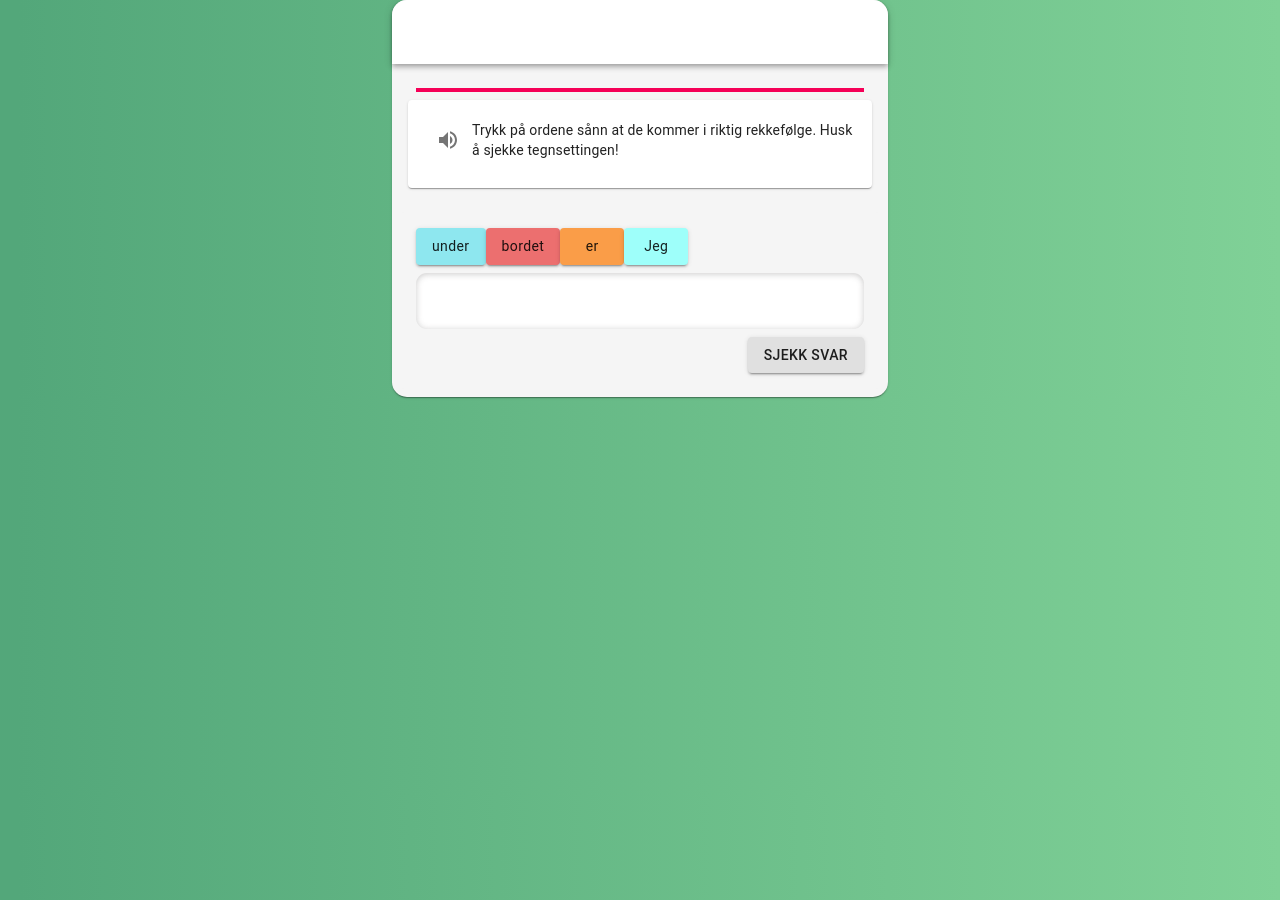
Test case: RyddeSetninger component › should return "Feil!" on incorrect play through, and buttons are disabled
Expected: the text "Jeg" is shown, [644,238,668,254]
Click the button "er" at (592, 246), box [560,228,624,264]
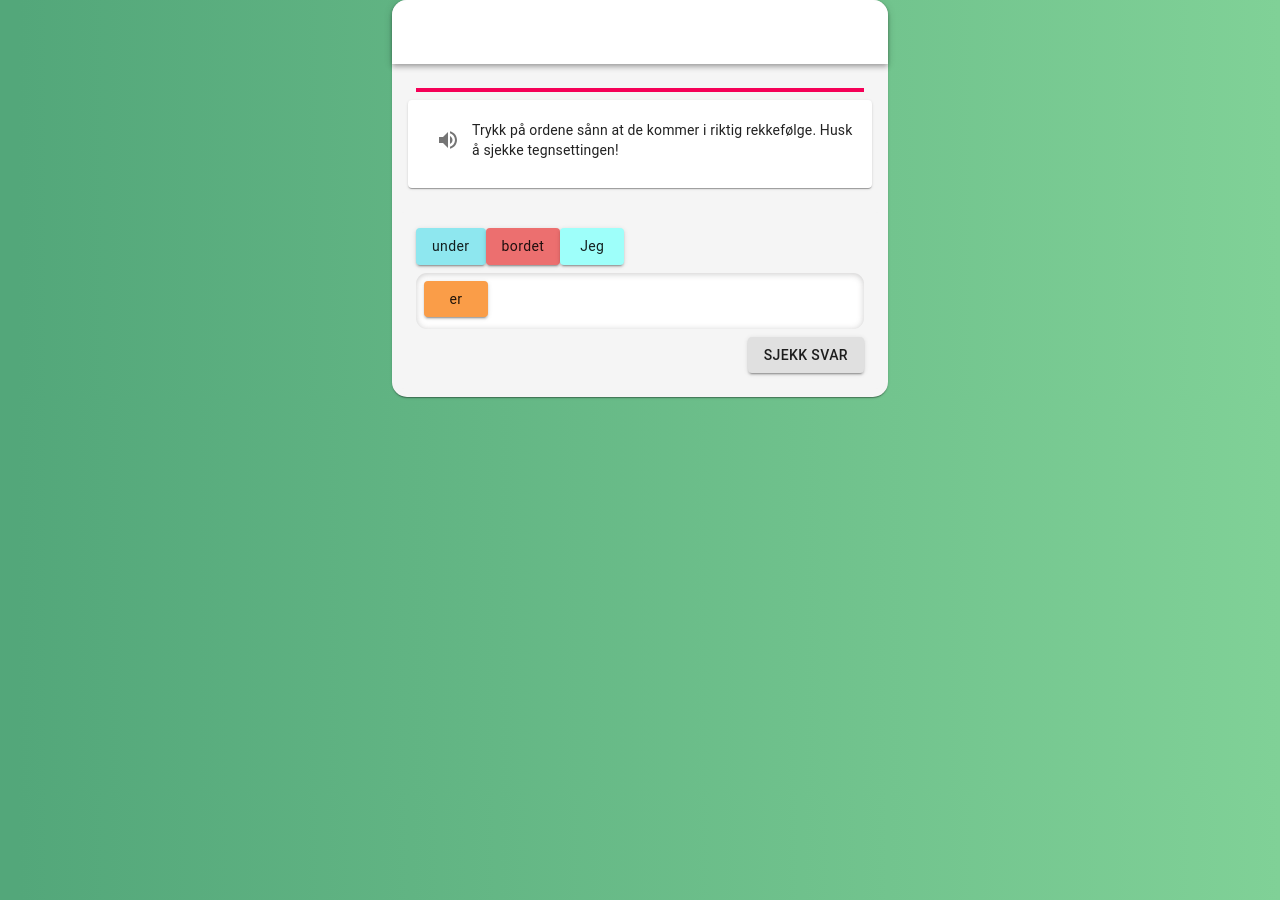
Click the button "under" at (451, 246), box [416,228,486,264]
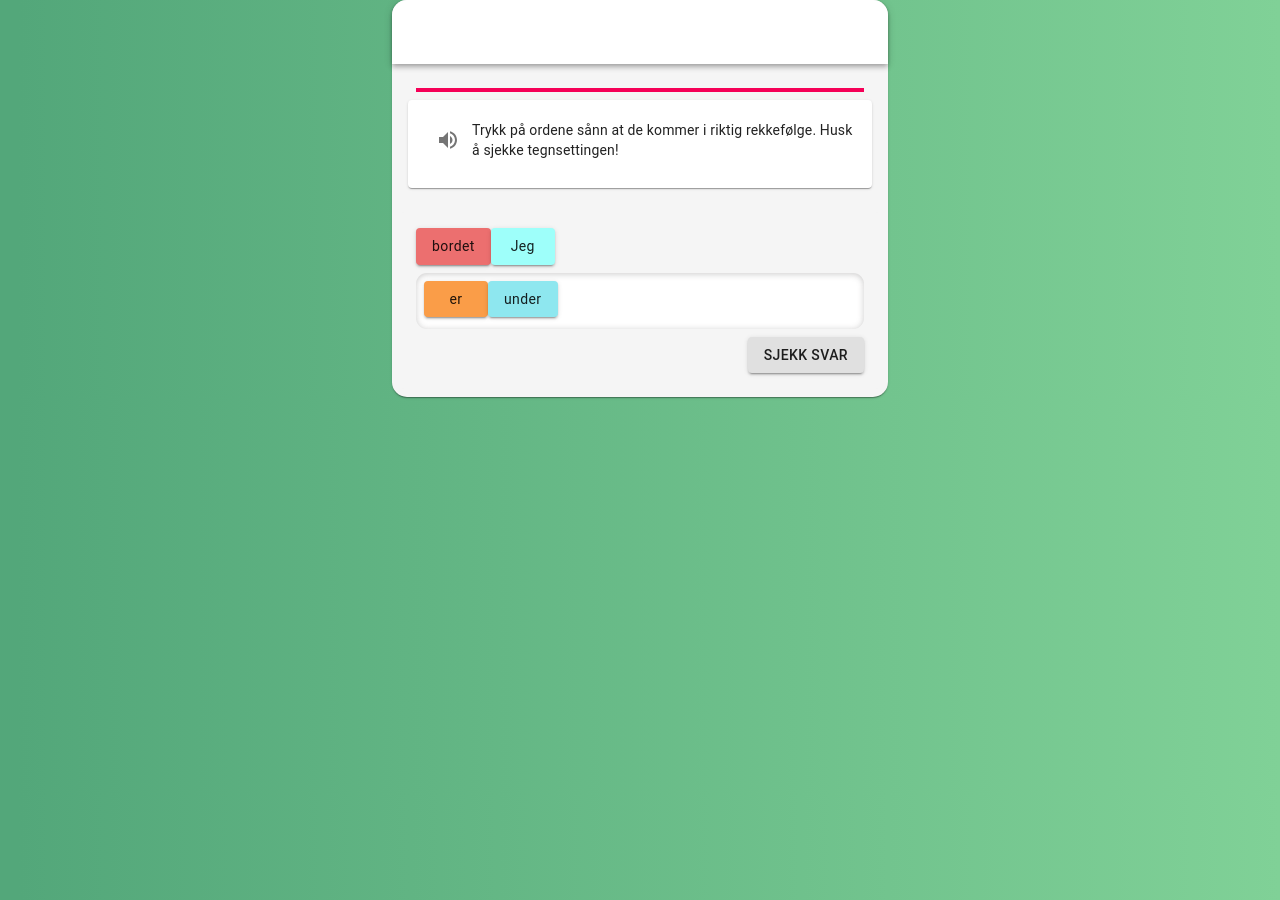
Click the button "Jeg" at (523, 246), box [491,228,555,264]
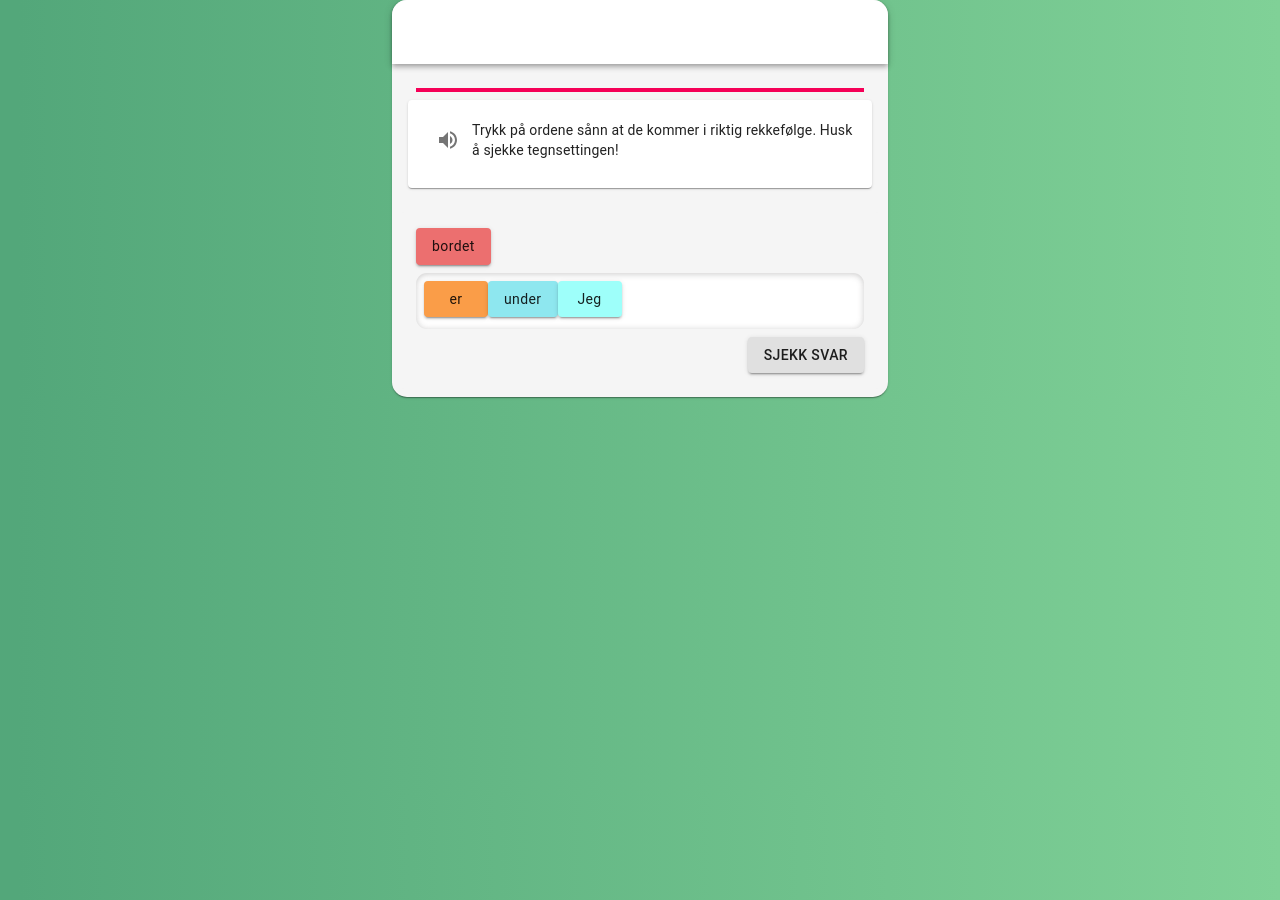
Click the button "bordet" at (453, 246), box [416,228,491,264]
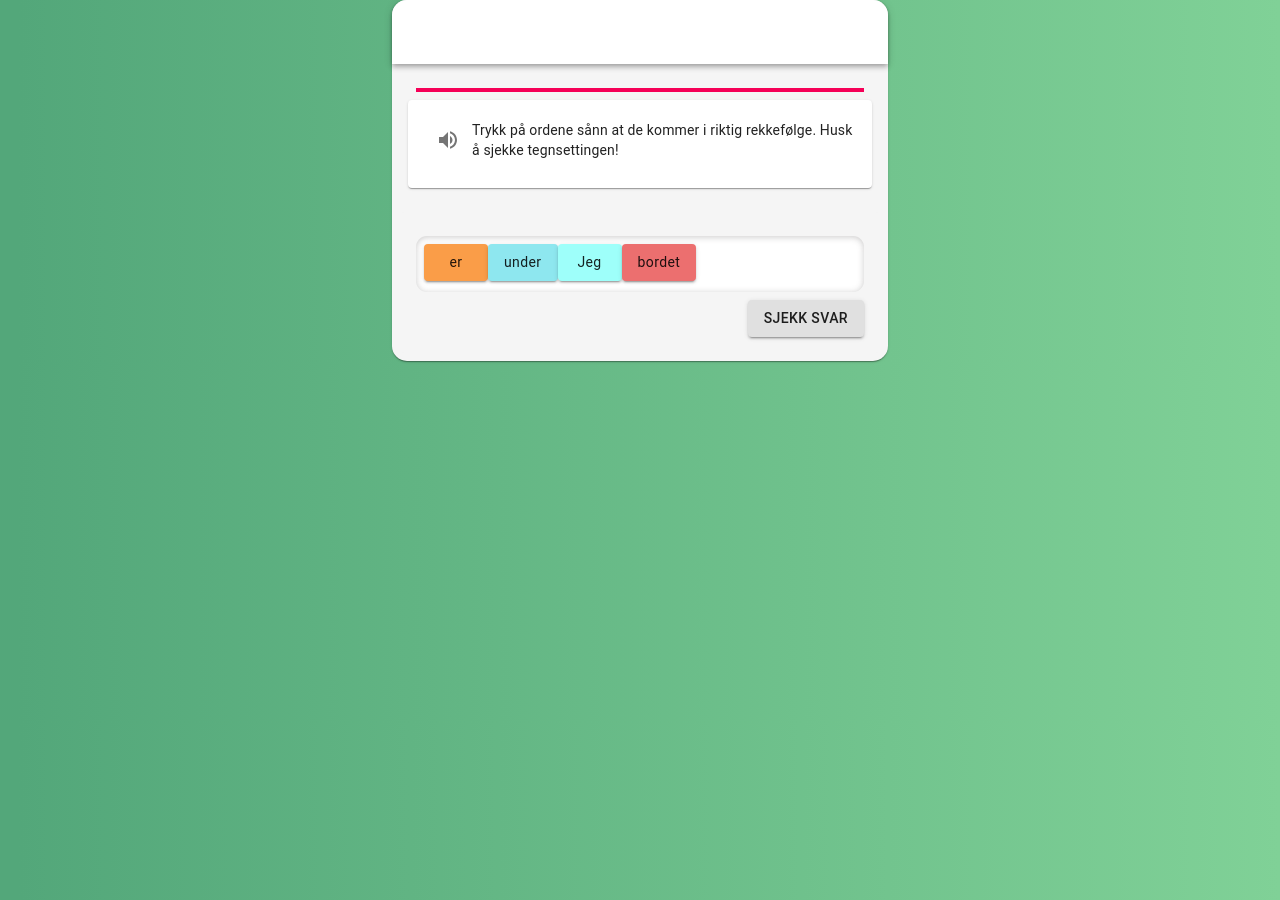
Click the button "Sjekk svar" at (806, 318), box [748,300,864,336]
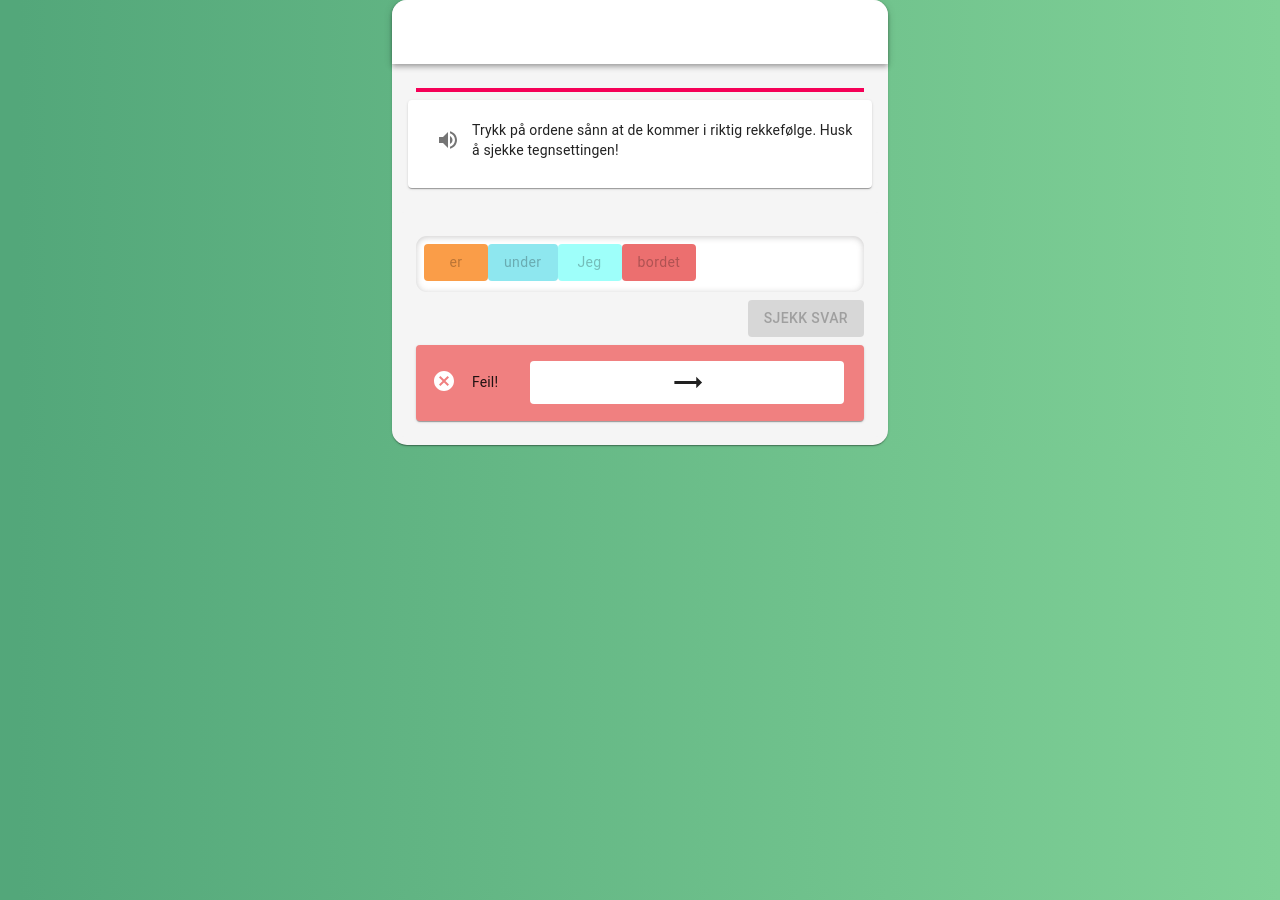
Now the text "Feil!" is shown, box [472,372,498,392]
Now the button "Jeg" is disabled, box [558,244,622,280]
Now the button "Sjekk svar" is disabled, box [748,300,864,336]
